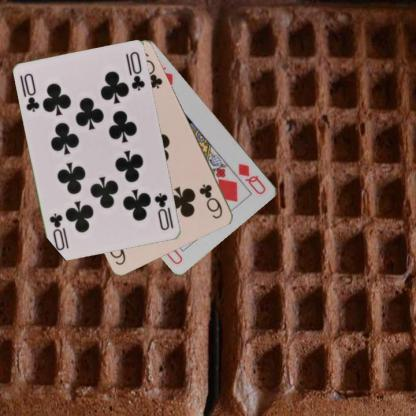10c: (17, 70, 42, 114), (152, 190, 171, 232)
6c: (197, 181, 224, 220)
Qd: (236, 160, 268, 196)
